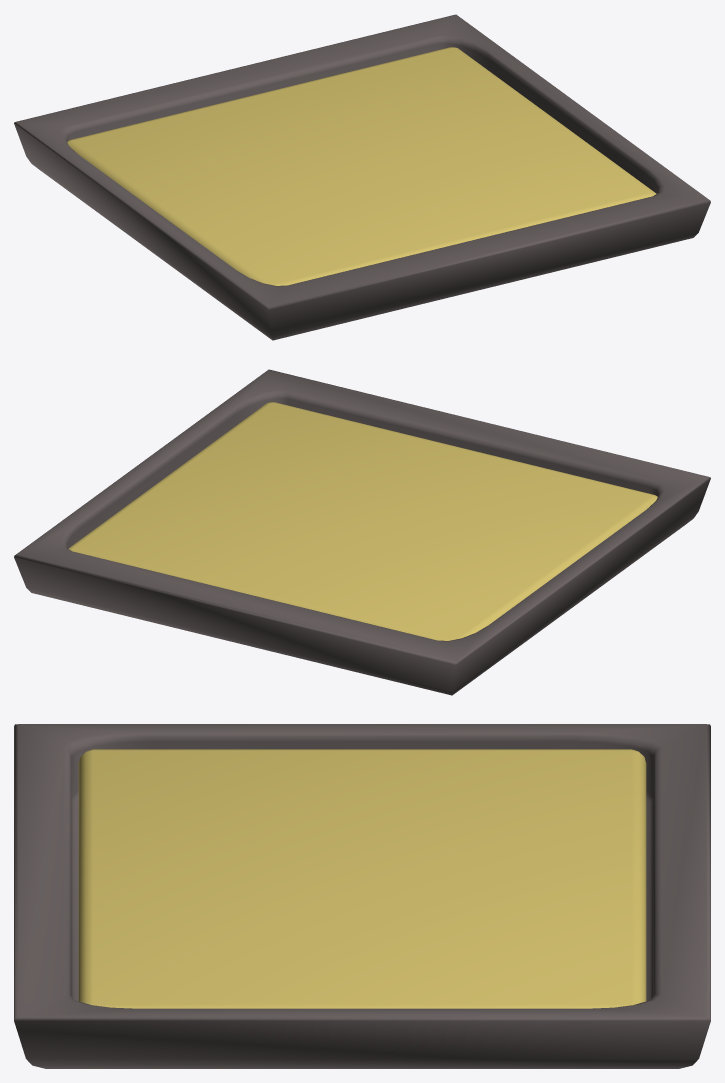
Rendered from ObjPate.fbx.
3 views of the same model, one above another, from view 1: azimuth 30°, elevation 25°; view 2: azimuth 150°, elevation 25°; view 3: azimuth 270°, elevation 25° (orthographic). The views are drawn at different scales.
Parts seen in each view (by area): view 1: Plane.002, Cube.001; view 2: Plane.002, Cube.001; view 3: Plane.002, Cube.001.
Boxes of the visible parts, x1,y1,x2,y2 form: Plane.002: (67,47,656,285); Cube.001: (14,14,710,340); Plane.002: (68,402,657,640); Cube.001: (14,369,710,695); Plane.002: (78,749,646,1008); Cube.001: (14,724,710,1068).
Bounding box in the file's own units: 50 × 5 × 50.
